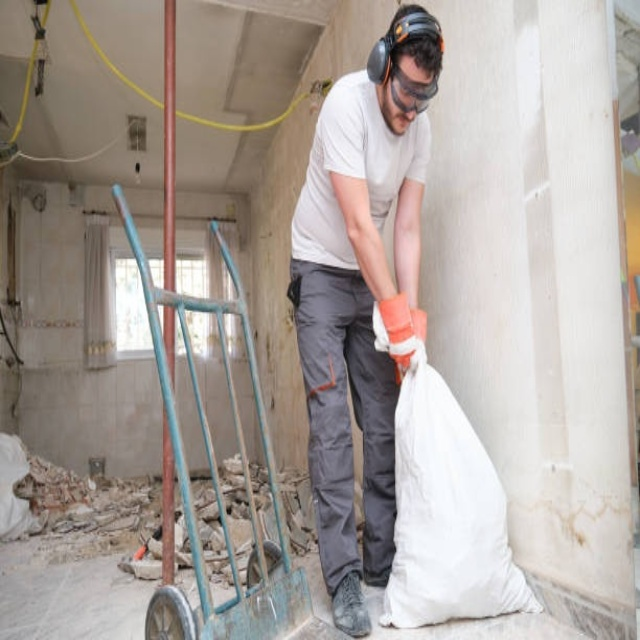Gafas: (389, 62, 436, 115)
Guantes: (375, 293, 427, 385)
Sin_mascara: (390, 108, 416, 138)
